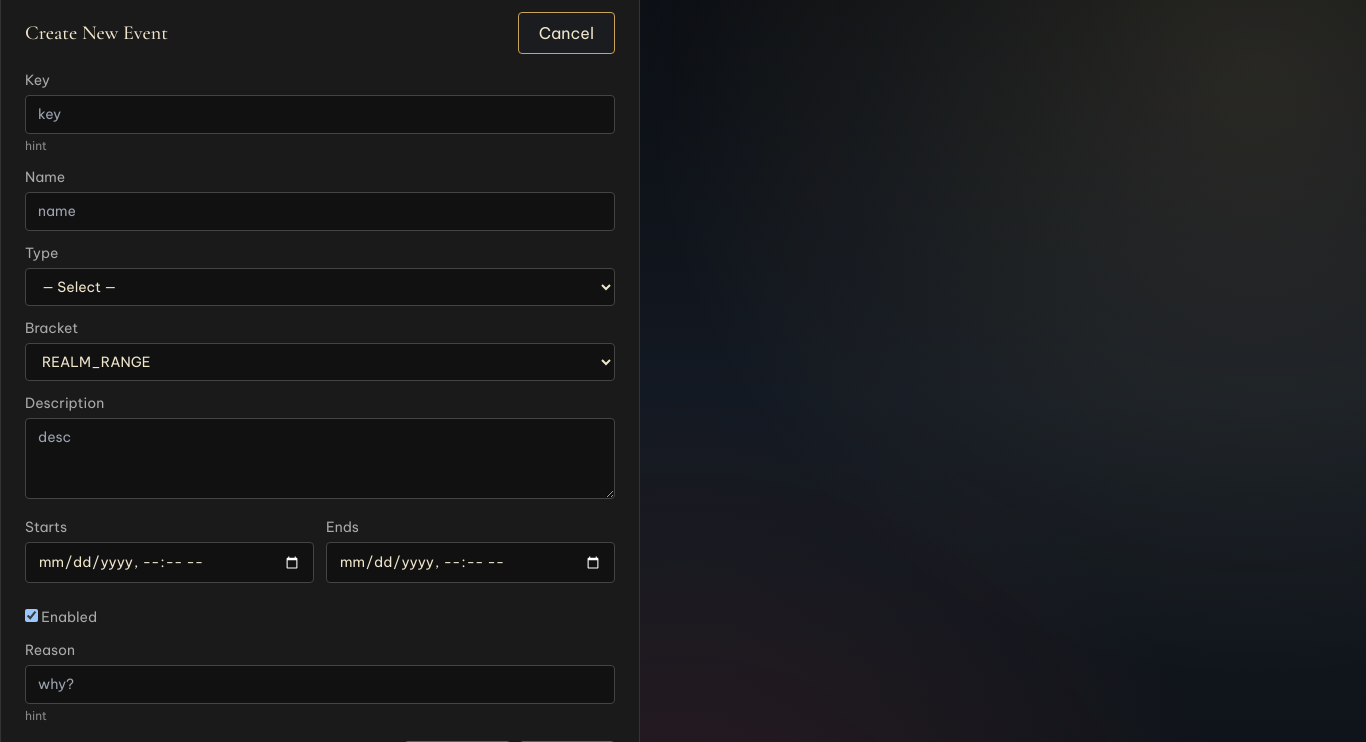
Test case: AdminEventCreateForm › shows submit error on API failure
Type "fail_event" into the field with test id "event-form-key" at (320, 114), box [25,95,615,134]
Type "Fail" into the field with test id "event-form-name" at (320, 212), box [25,192,615,231]
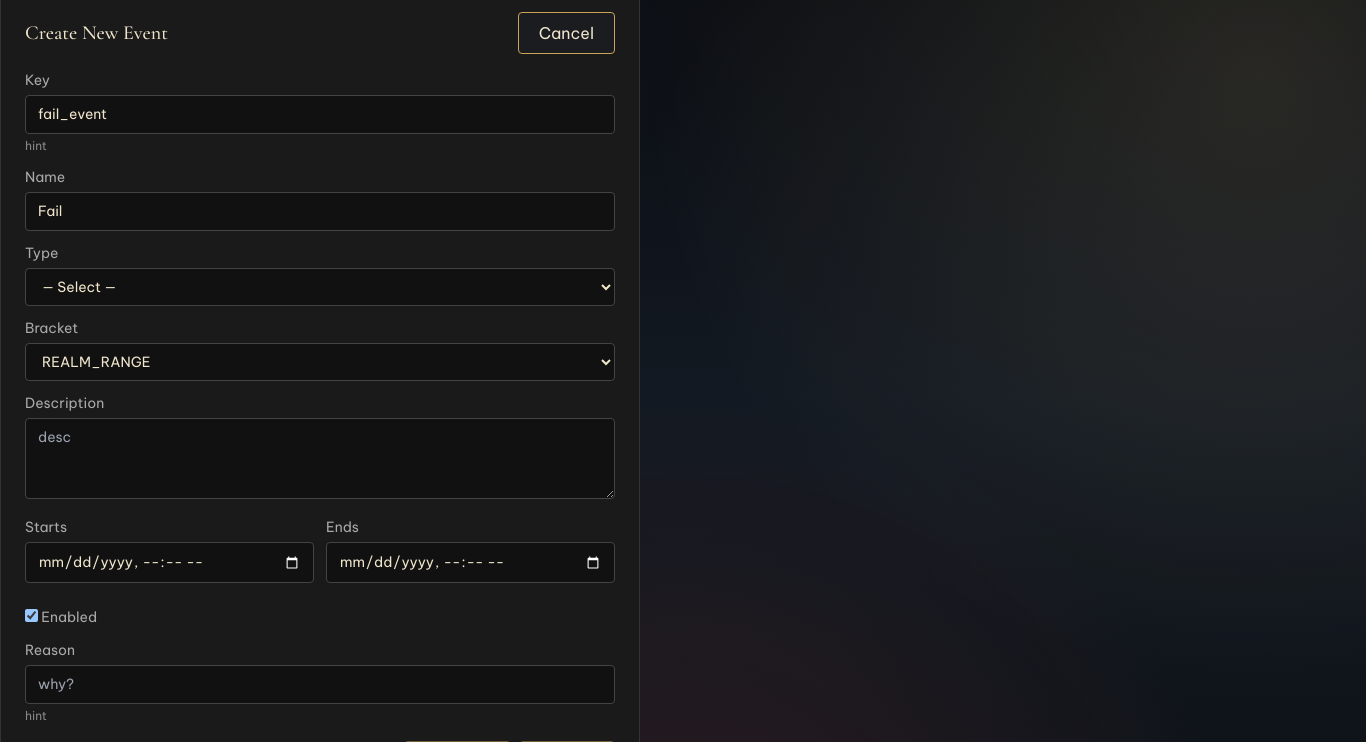
Select "LOGIN_EVENT" in the dropdown with test id "event-form-type" at (320, 287), box [25,268,615,306]
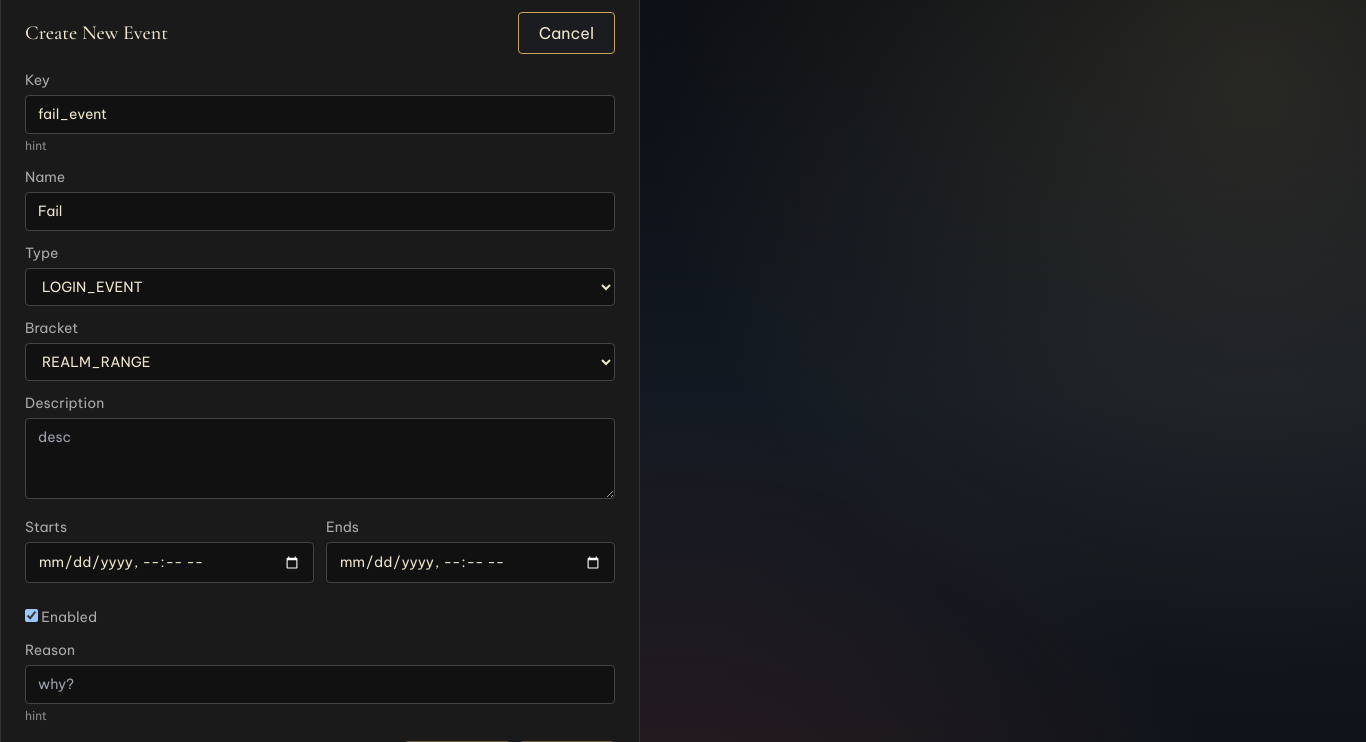
Type "2026-06-01T00:00" into the field with test id "event-form-starts" at (170, 563), box [25,542,314,583]
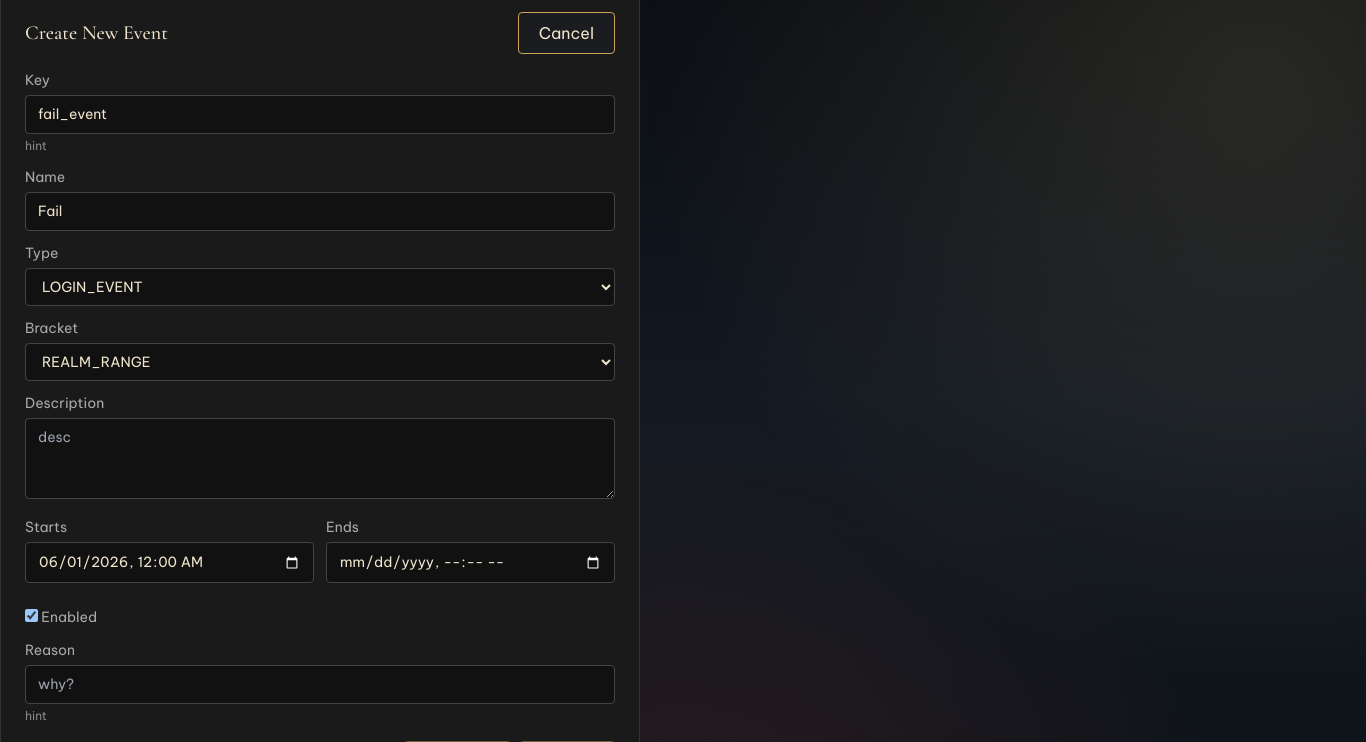
Type "2026-06-07T00:00" into the field with test id "event-form-ends" at (470, 563), box [326,542,615,583]
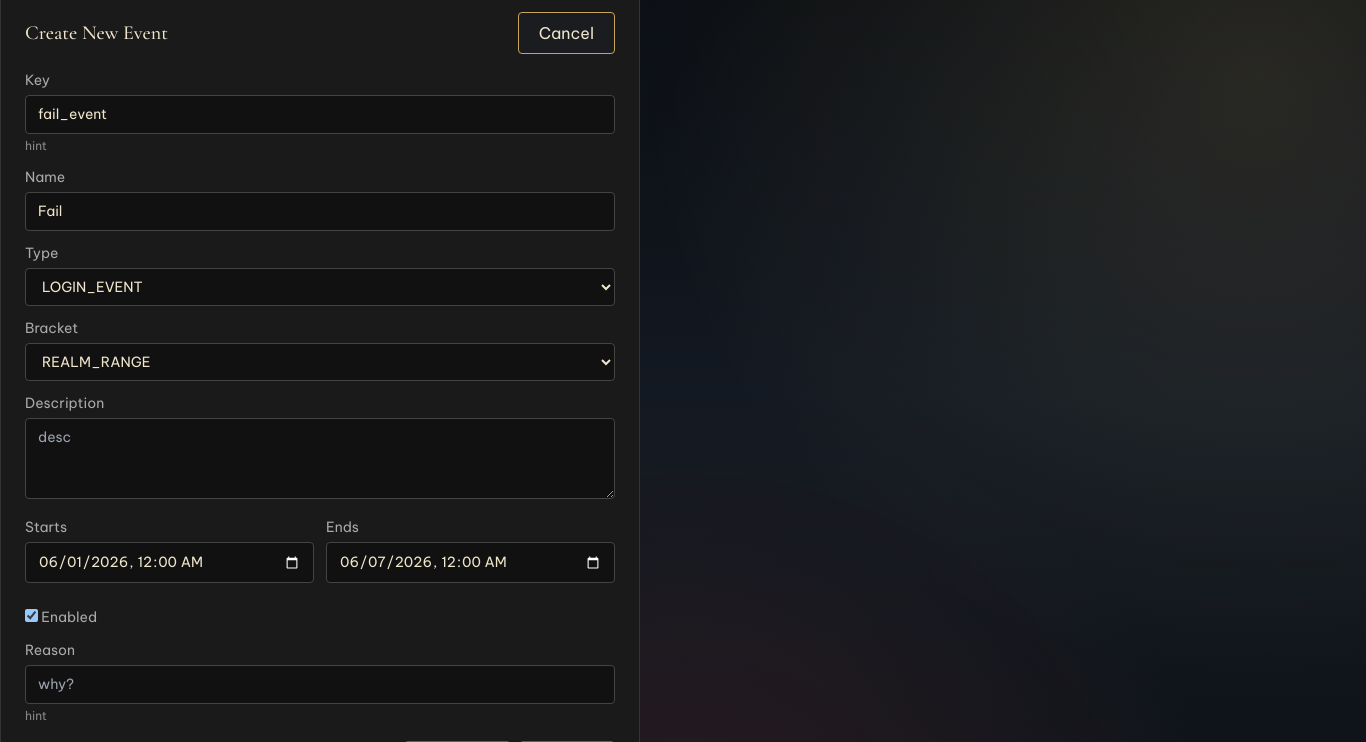
Type "testing error" into the field with test id "event-form-reason" at (320, 685), box [25,665,615,704]
(page scrolled)
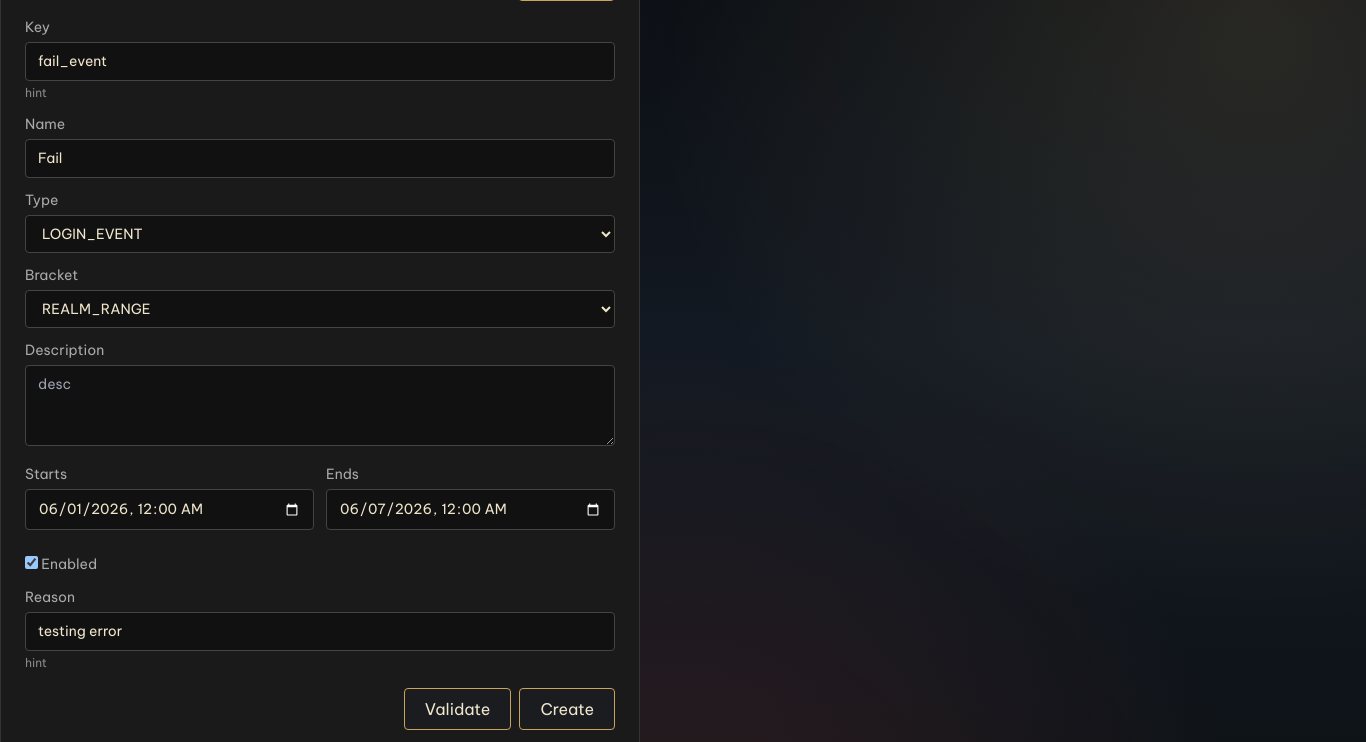
Click the button with test id "event-form-submit" at (567, 709), box [519,688,615,730]
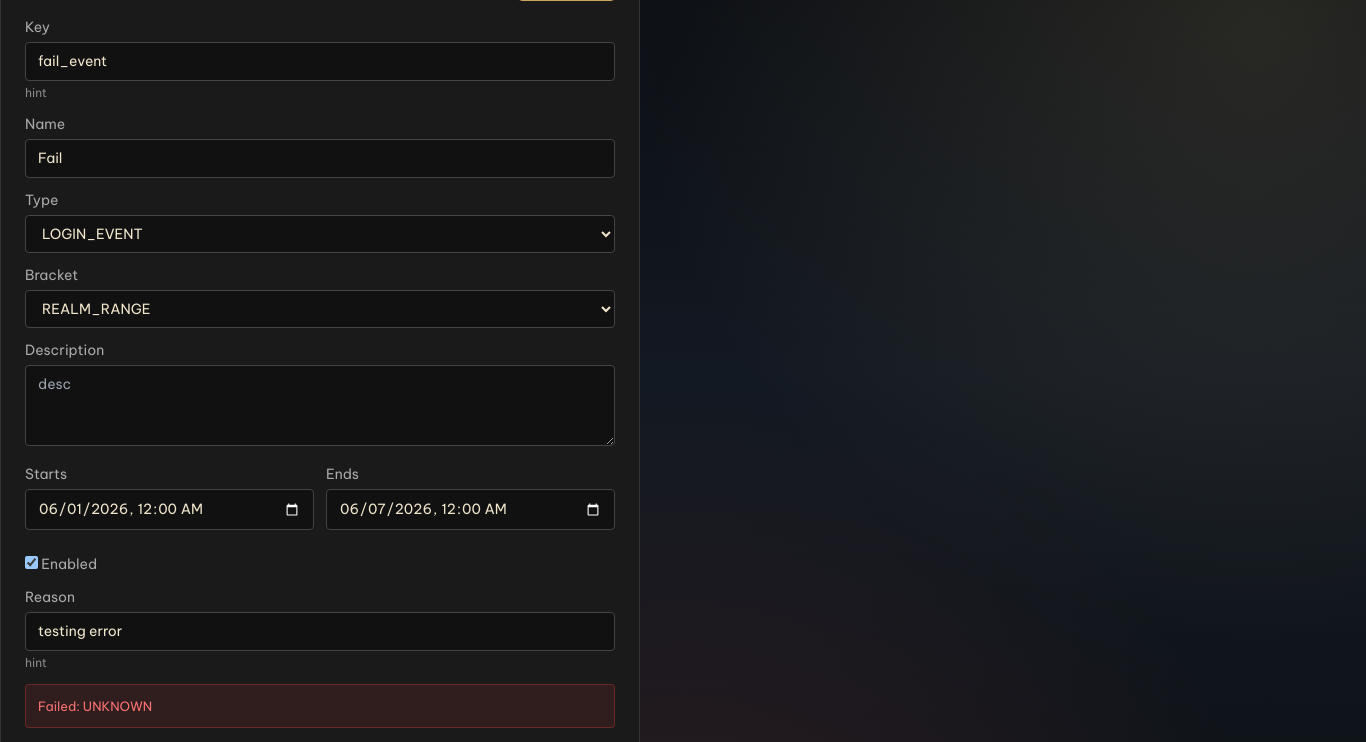
Now the element with test id "event-form-submit-error" is shown, box [25,684,615,728]
